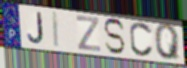C: (128, 20, 154, 58)
I: (52, 11, 61, 50)
J: (26, 12, 45, 46)
Q: (153, 23, 182, 61)
S: (102, 17, 126, 56)
Z: (75, 14, 101, 53)
